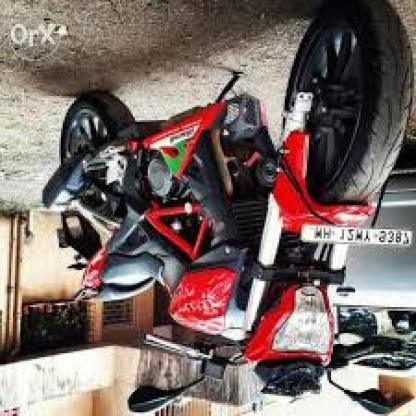bike: (41, 0, 416, 414)
